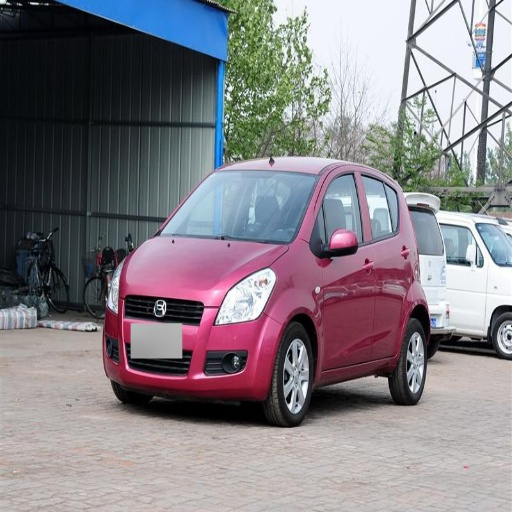front_bumper: (107, 294, 283, 398)
front_glass: (159, 172, 317, 243)
front_left_door: (313, 167, 375, 369)
